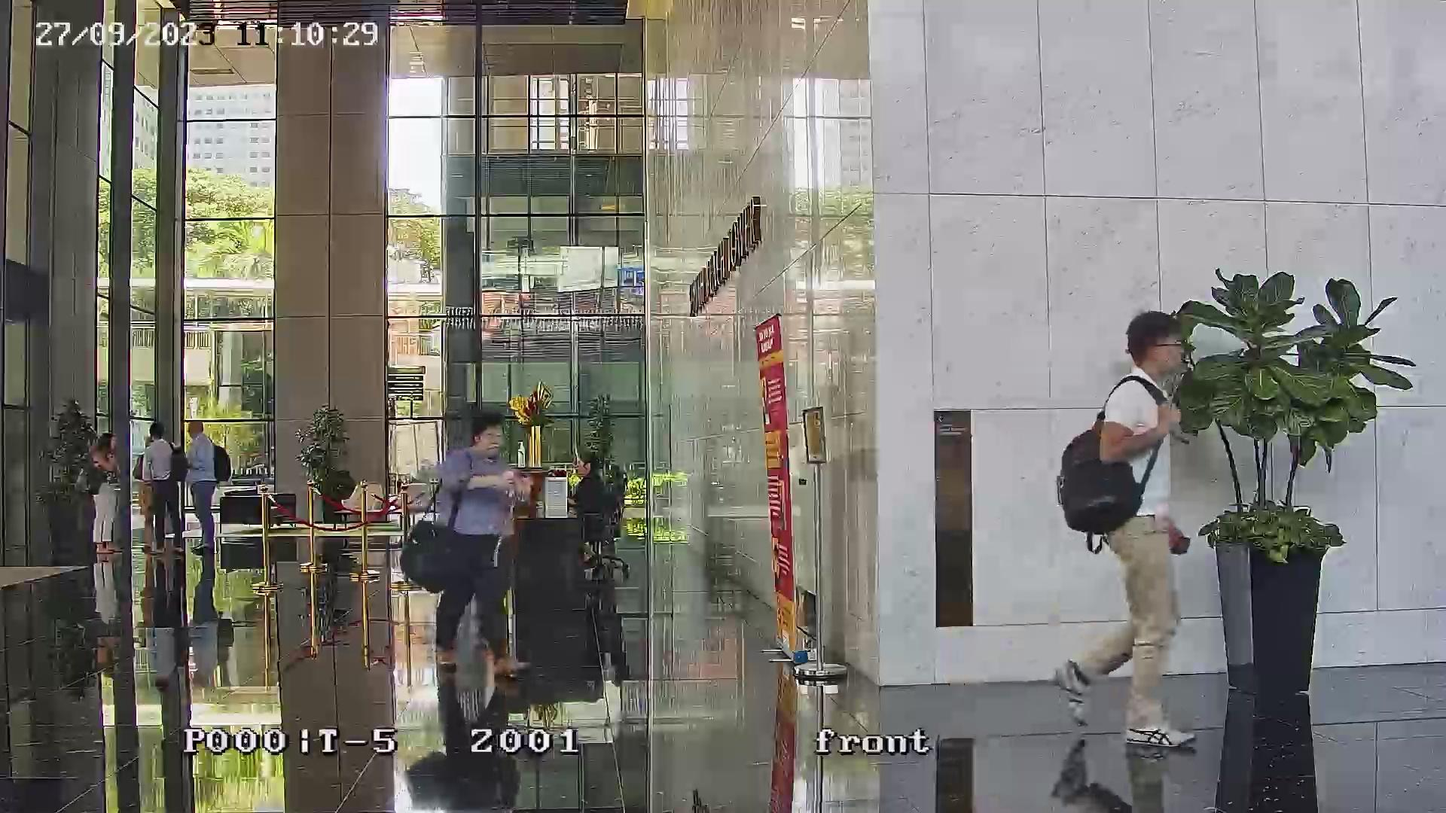person: (1053, 309, 1199, 759), (432, 409, 532, 671), (186, 421, 225, 554), (88, 431, 122, 556), (142, 422, 175, 550), (572, 452, 606, 535)
